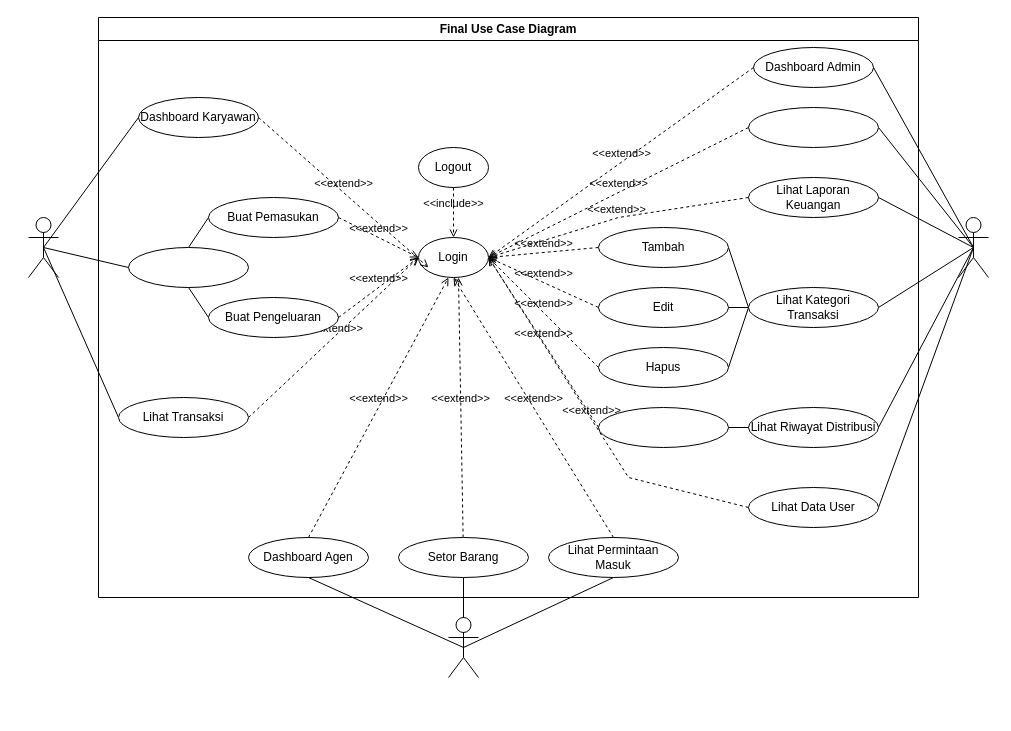
The diagram is 1011 pixels wide and 731 high, and some of its shapes have lost their labels. Here are the shapes that lost their labels. From the top down, the box of each, then its label:
(748, 106, 878, 148): LakukanRequest Barang
(28, 216, 58, 278): Karyawan (user)
(128, 246, 248, 288): Catat Transaksi
(958, 216, 988, 278): Pemilik (admin)
(598, 406, 728, 448): Cetak Riwayat Distribusi
(448, 616, 478, 678): Agen (user)
